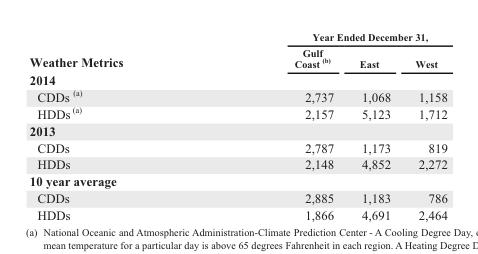table: (28, 29, 447, 222)
table column: (28, 29, 208, 222), (208, 29, 346, 222), (346, 29, 402, 222), (402, 29, 447, 222)
table column header: (28, 29, 447, 70)
table projected row header: (28, 70, 447, 87), (28, 121, 447, 138), (28, 172, 447, 188)
table row: (28, 44, 447, 70), (28, 70, 447, 87), (28, 87, 447, 104), (28, 104, 447, 121), (28, 121, 447, 138), (28, 138, 447, 155), (28, 155, 447, 172), (28, 188, 447, 205), (28, 205, 447, 222), (28, 172, 447, 188), (28, 29, 447, 44)
table spanning cell: (28, 29, 208, 70), (208, 29, 447, 44)
